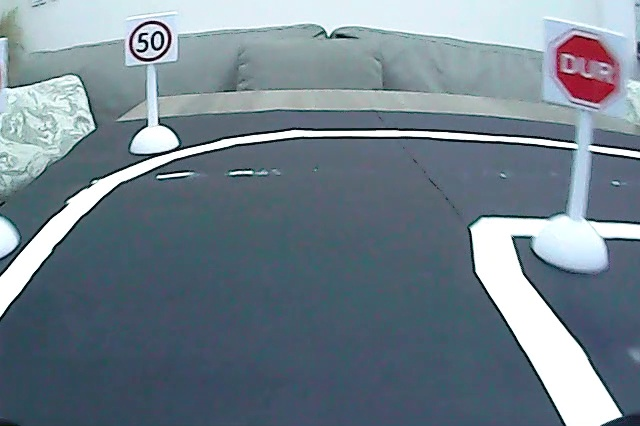speed limit 50: (128, 18, 174, 64)
stop sign: (550, 27, 623, 112)
